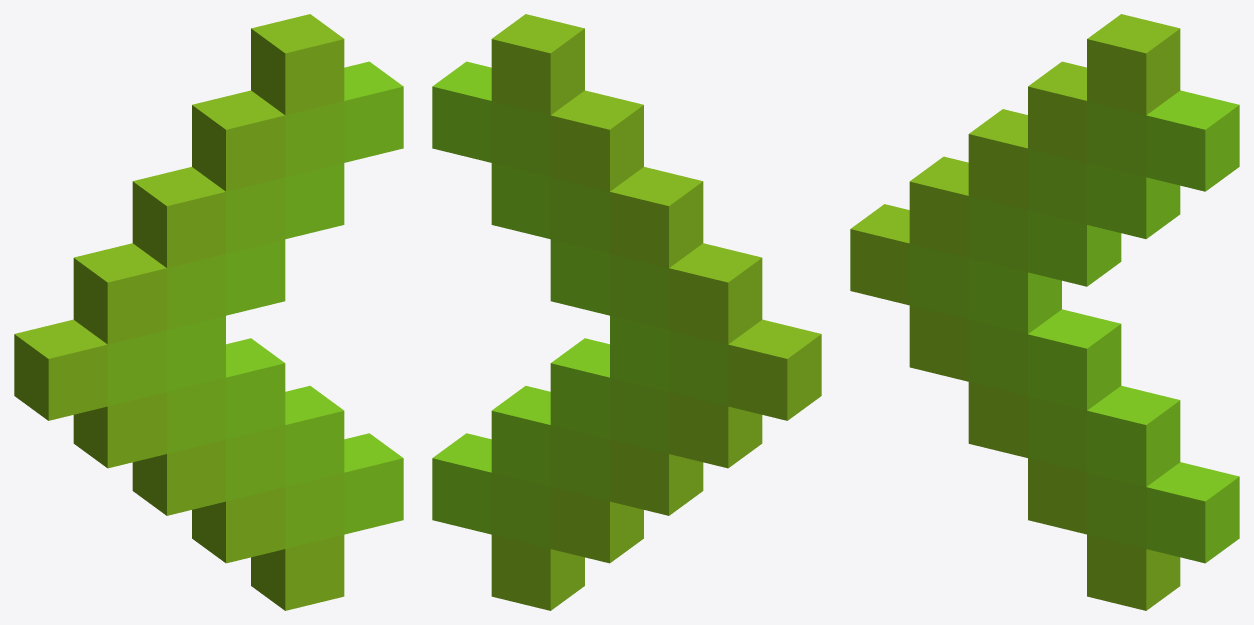
File: bar-0.obj
3 renders of one model, left to right at view 1: azimuth 30°, elevation 25°; view 2: azimuth 150°, elevation 25°; view 3: azimuth 330°, elevation 25°, orthographic.
Size of the model in its own units: 0.6 by 0.9 by 0.1.
1 material, 1 textured.
